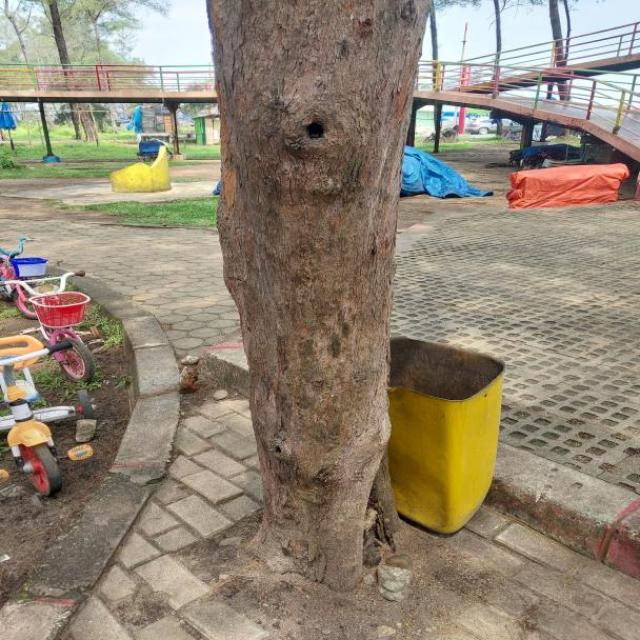dustbin ahead at: (394, 331, 518, 534)
tree ahead at: (195, 0, 412, 590)
